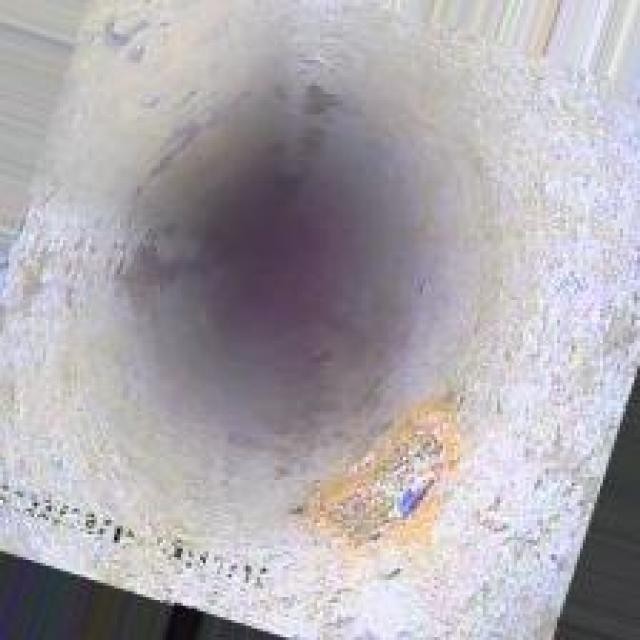ferrule: (326, 432, 474, 528)
